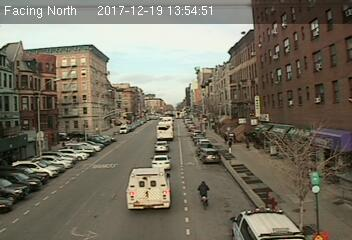bicycle: (197, 180, 213, 211)
bus: (157, 117, 175, 140)
car: (153, 155, 171, 169), (199, 149, 219, 161), (153, 141, 170, 152)
police: (230, 205, 312, 240)
truck: (124, 168, 172, 210)
